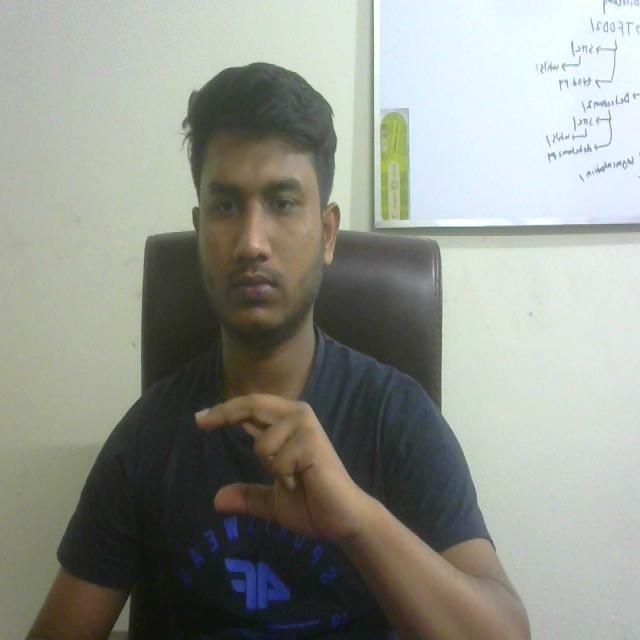D: (184, 365, 361, 559)
